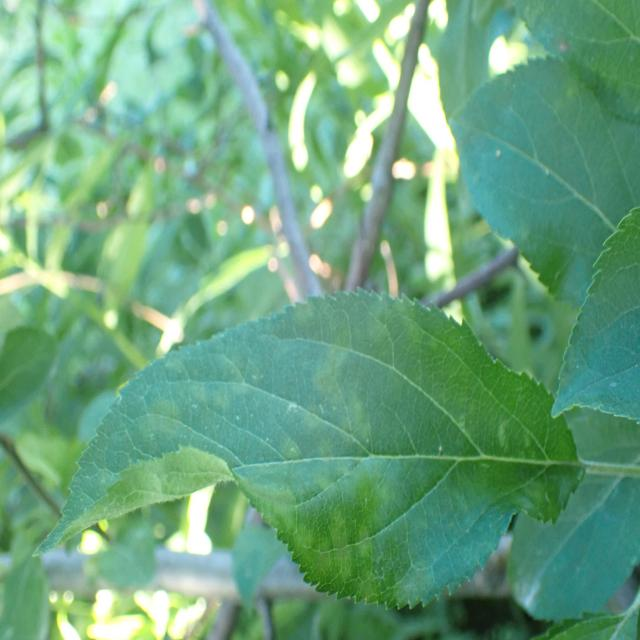scab: (138, 328, 549, 601)
